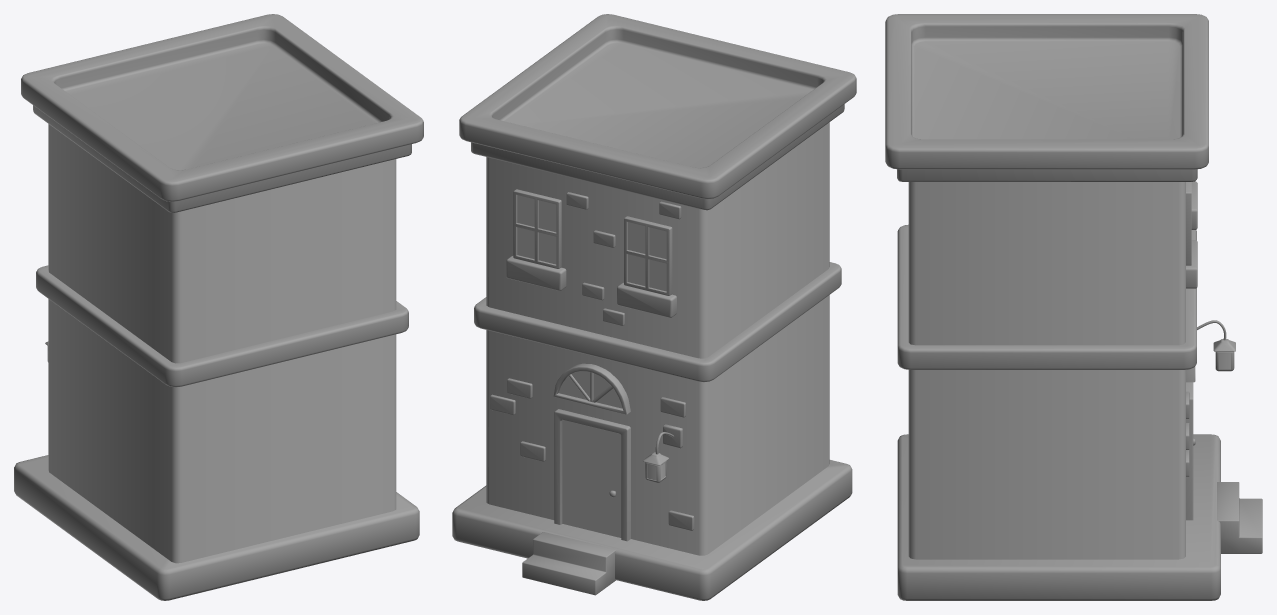
Rendered from grey_build.fbx.
3 views of the same model, side by side, from view 1: azimuth 30°, elevation 25°; view 2: azimuth 150°, elevation 25°; view 3: azimuth 270°, elevation 25° (orthographic). The views are drawn at different scales.
Parts seen in each view (by area): view 1: building_grey_ust, building_grey_alt; view 2: building_grey_ust, building_grey_alt; view 3: building_grey_ust, building_grey_alt.
Part boxes in pixels (x1,y1,x2,y2): building_grey_ust: (21,14,423,363); building_grey_alt: (14,265,419,600); building_grey_ust: (459,14,856,358); building_grey_alt: (452,262,852,600); building_grey_ust: (885,14,1208,345); building_grey_alt: (897,224,1262,600).
Size of the model in its own units: 350 by 541 by 408.
Materials: 2 (2 with a texture image).
